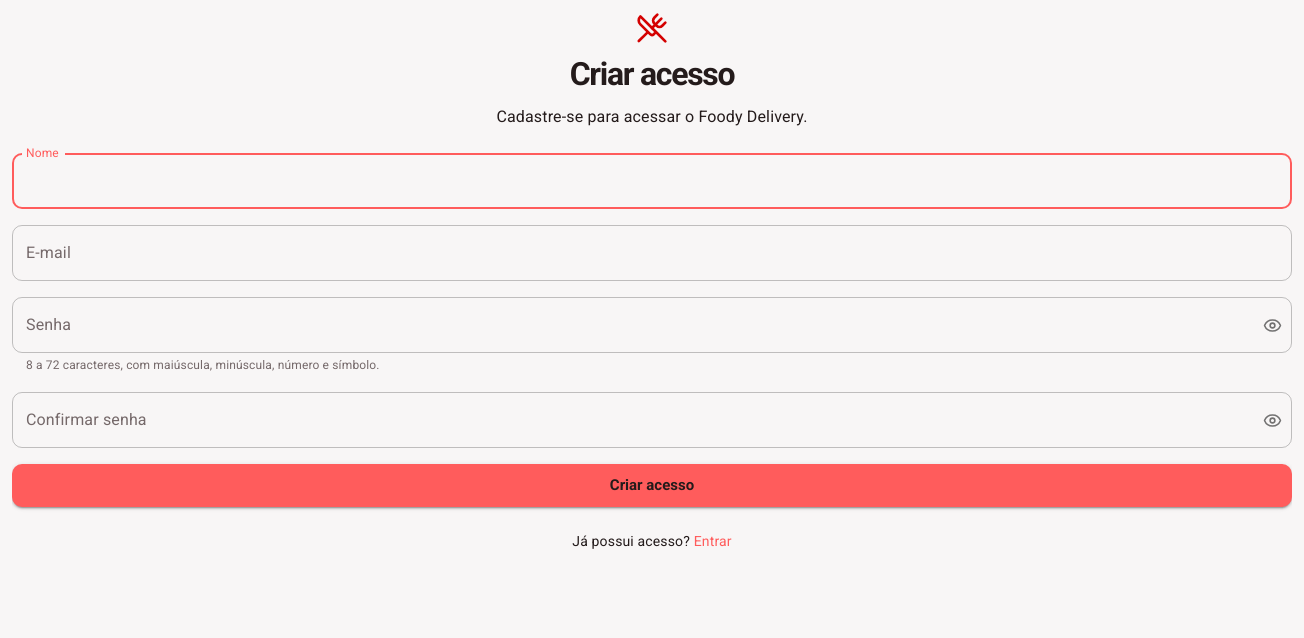
Scenario: formulários de autenticação › trata e-mail duplicado no cadastro
In the field labelled "Nome": x=652, y=181 [12,153,1292,209], type "Ana Silva"
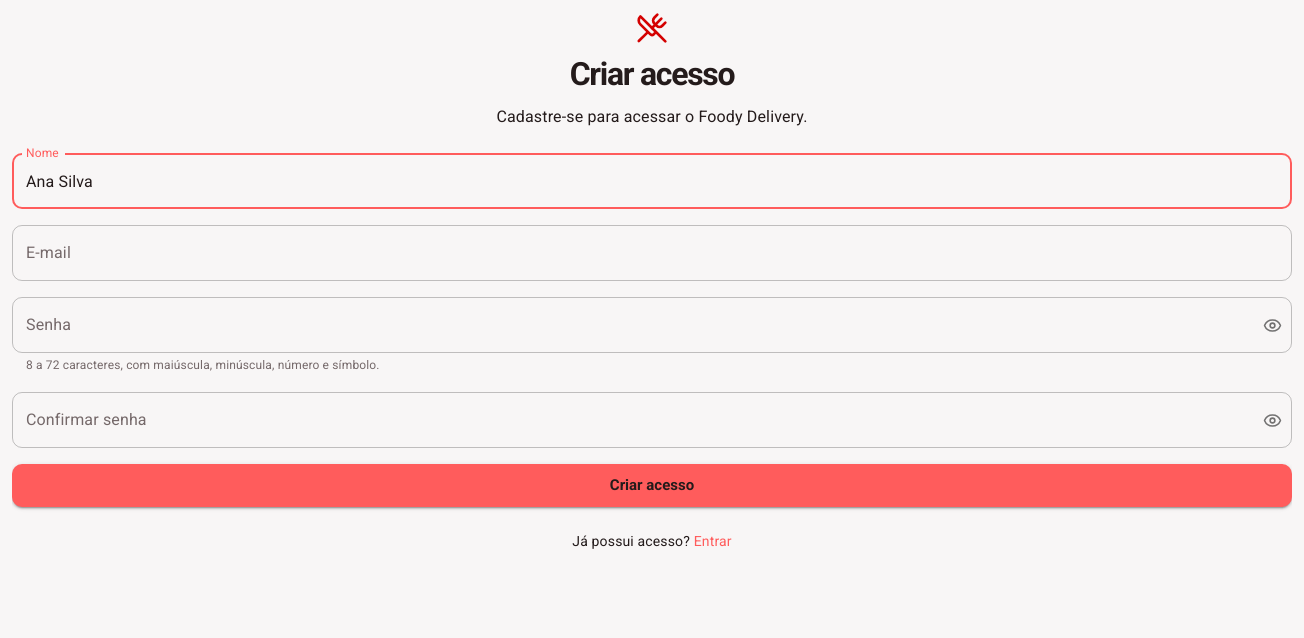
In the field labelled "E-mail": x=652, y=253 [12,225,1292,281], type "ana@example.com"
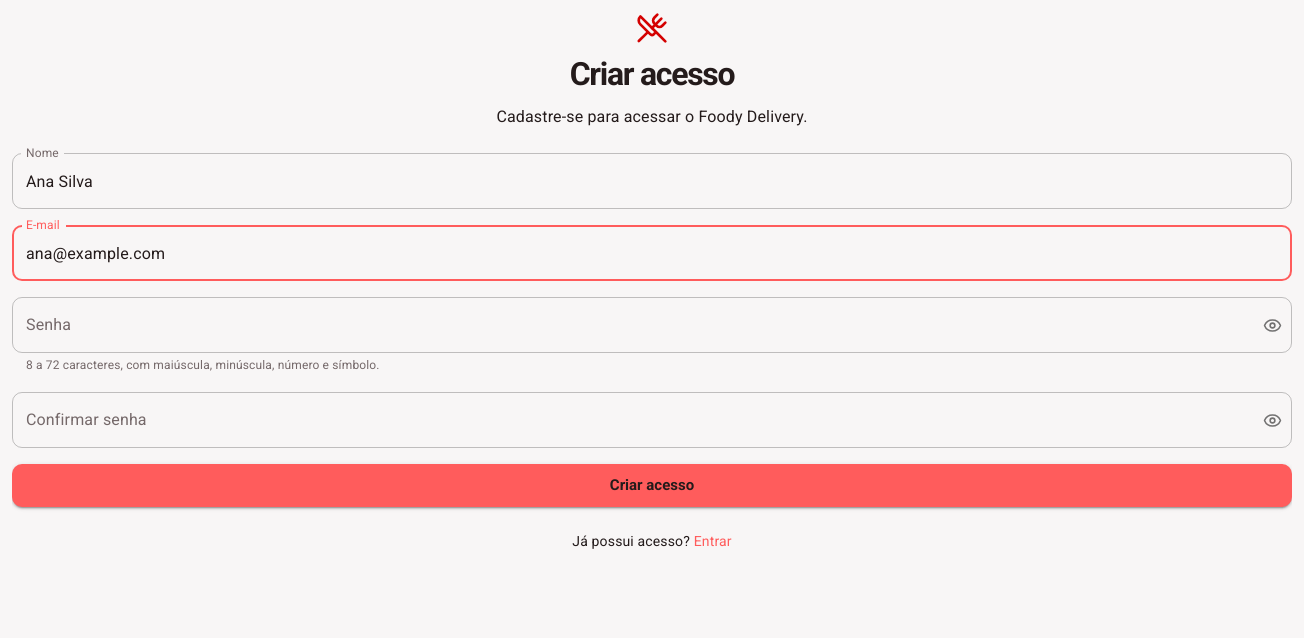
In the password field labelled "Senha": x=630, y=325 [12,297,1247,353], type "Senha123!"
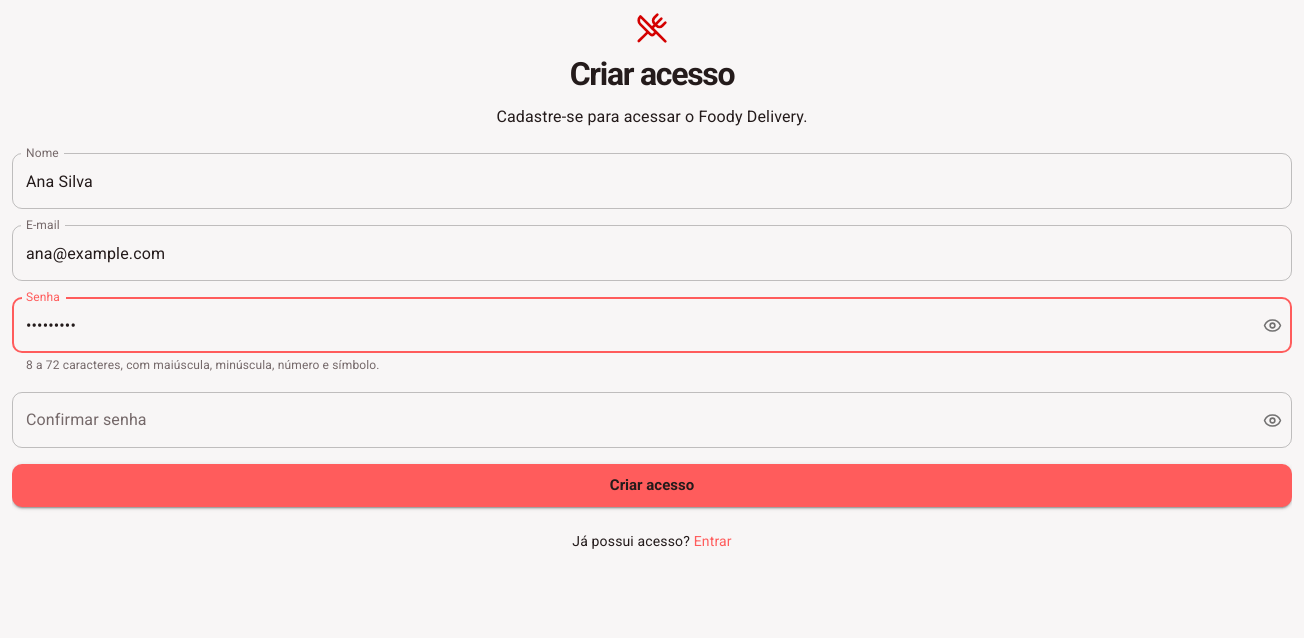
In the password field labelled "Confirmar senha": x=630, y=420 [12,392,1247,448], type "Senha123!"
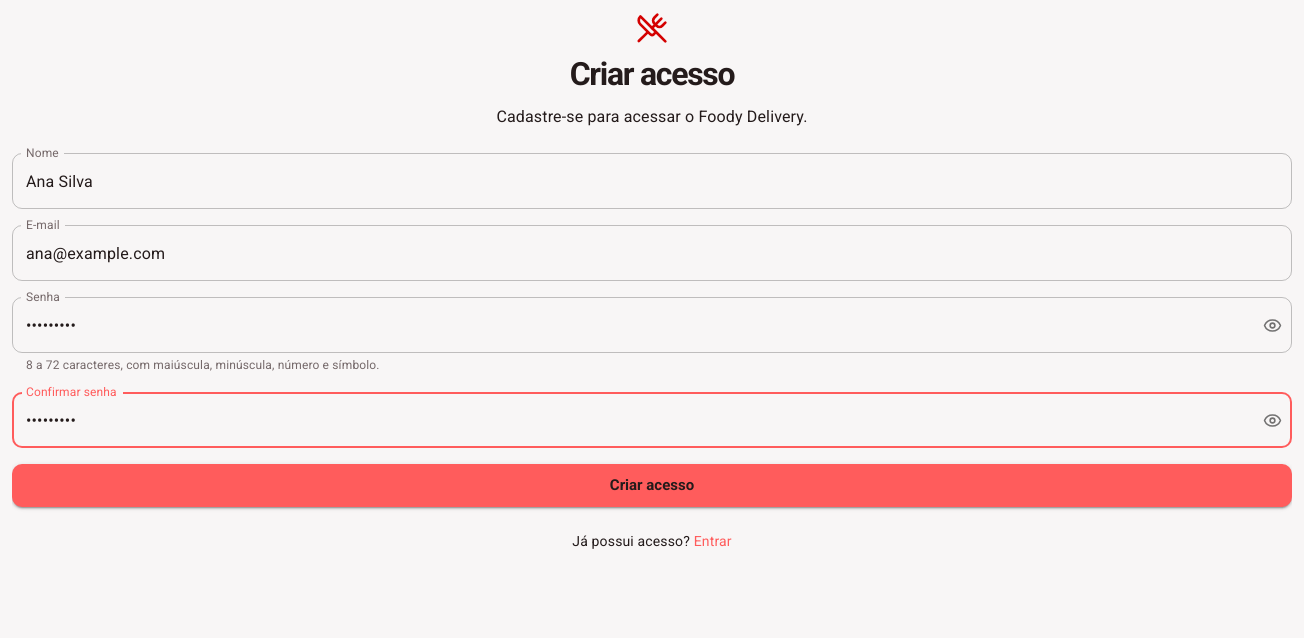
Click the button "Criar acesso": x=652, y=485 [12,464,1292,507]
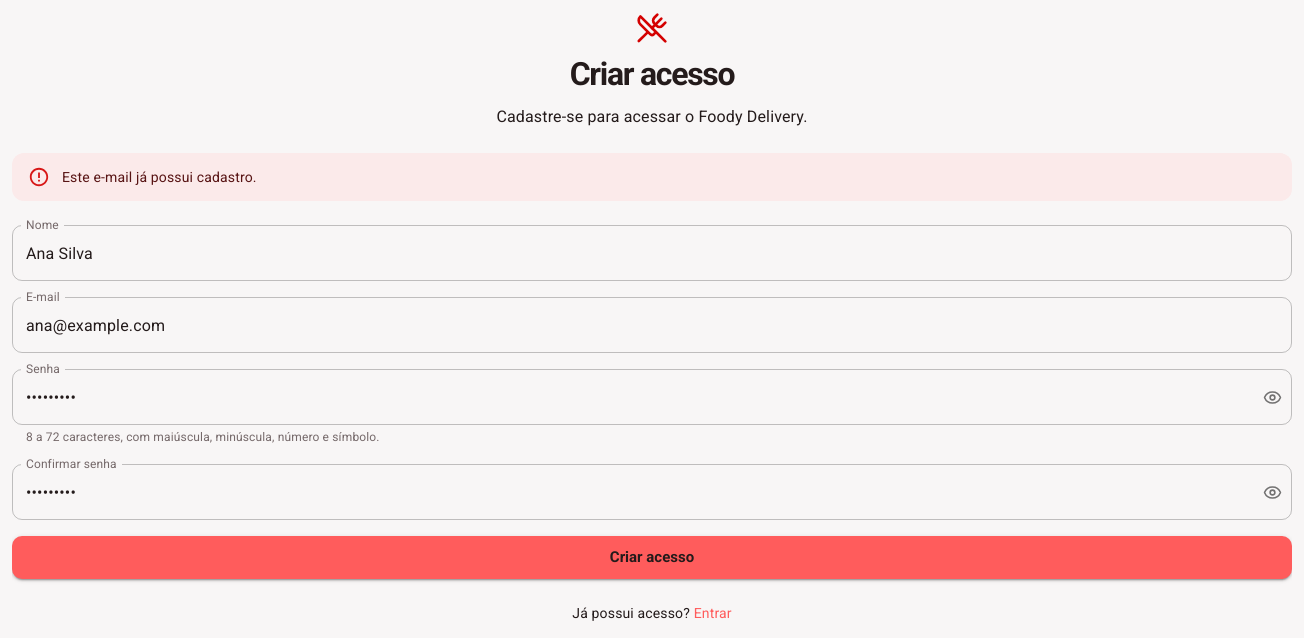
Now the message reads "Este e-mail já possui cadastro.", box [62,169,257,185]
